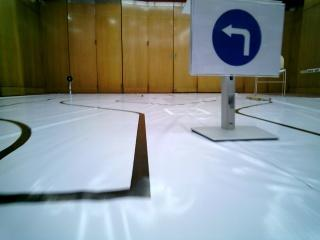left: (196, 0, 274, 72)
